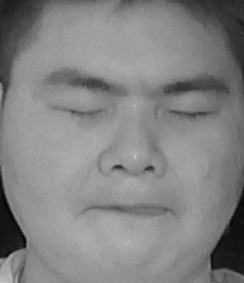blink: (55, 93, 106, 129), (166, 98, 215, 129)
mouth: (81, 186, 175, 234)
